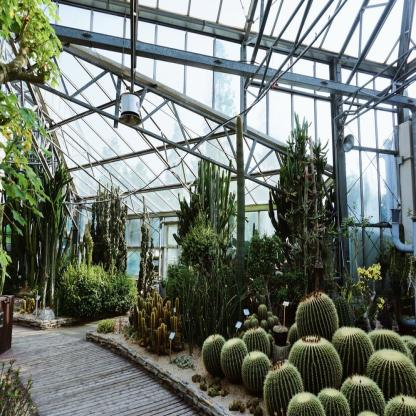Cactus: (288, 334, 341, 397), (367, 348, 415, 406), (330, 324, 373, 378), (297, 289, 337, 344), (341, 375, 386, 416), (266, 363, 302, 413), (220, 336, 247, 375), (242, 352, 271, 388), (243, 324, 270, 361), (202, 332, 226, 372), (287, 391, 322, 416), (319, 389, 349, 416), (255, 304, 268, 320)
